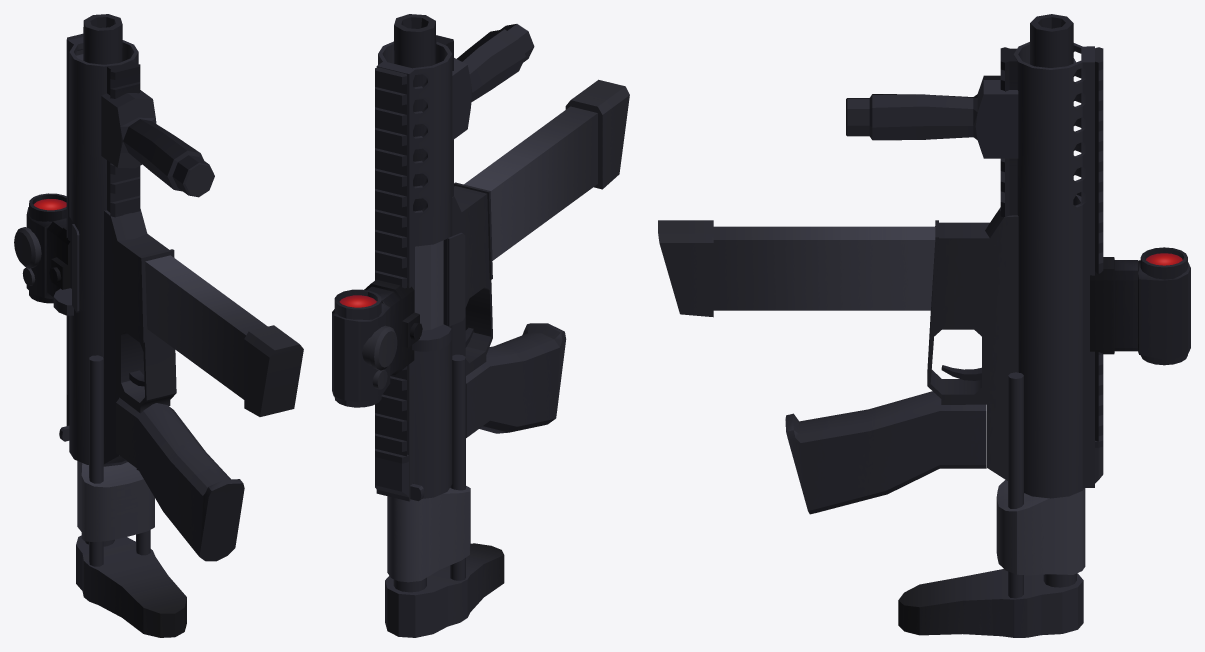
File: TEC.FBX
The picture shows the model from 3 angles, left to right: view 1: azimuth 30°, elevation 25°; view 2: azimuth 150°, elevation 25°; view 3: azimuth 270°, elevation 25°; orthographic projection. The views are drawn at different scales.
Visible parts, largest first — view 1: sub_base, sub_stock, sub_Mag, sub_grip, sub_Holosight, sub_RIS_bot, sub_barrel, sub_hs2, sub_RIS_top, sub_lcap; view 2: sub_base, sub_stock, sub_Mag, sub_RIS_top, sub_Holosight, sub_grip, sub_barrel, sub_Lewer, sub_lcap, sub_hs2; view 3: sub_base, sub_Mag, sub_stock, sub_Holosight, sub_grip, sub_RIS_top, sub_barrel, sub_RIS_bot.
Boxes of the visible parts, box(x1,y1,x2,y2) form: sub_base: box(53, 37, 244, 561); sub_stock: box(76, 355, 186, 637); sub_Mag: box(145, 255, 303, 416); sub_grip: box(101, 90, 214, 197); sub_Holosight: box(26, 193, 70, 303); sub_RIS_bot: box(107, 61, 140, 217); sub_barrel: box(83, 14, 122, 64); sub_hs2: box(14, 227, 41, 268); sub_RIS_top: box(66, 33, 83, 425); sub_lcap: box(72, 224, 79, 312); sub_base: box(376, 41, 566, 501); sub_stock: box(385, 354, 504, 637); sub_Mag: box(464, 79, 629, 260); sub_RIS_top: box(375, 67, 408, 497); sub_Holosight: box(332, 279, 419, 407); sub_grip: box(452, 24, 534, 140); sub_barrel: box(394, 14, 436, 211); sub_Lewer: box(415, 240, 443, 330); sub_lcap: box(447, 232, 465, 326); sub_hs2: box(362, 325, 397, 370); sub_base: box(785, 42, 1094, 514); sub_Mag: box(658, 220, 935, 317); sub_stock: box(898, 372, 1085, 637); sub_Holosight: box(1090, 247, 1190, 365); sub_grip: box(846, 75, 1018, 158); sub_RIS_top: box(1095, 47, 1103, 483); sub_barrel: box(1030, 14, 1073, 204); sub_RIS_bot: box(1000, 47, 1017, 217).
Size of the model in its own units: 0.1591 by 1.18 by 0.9442.
